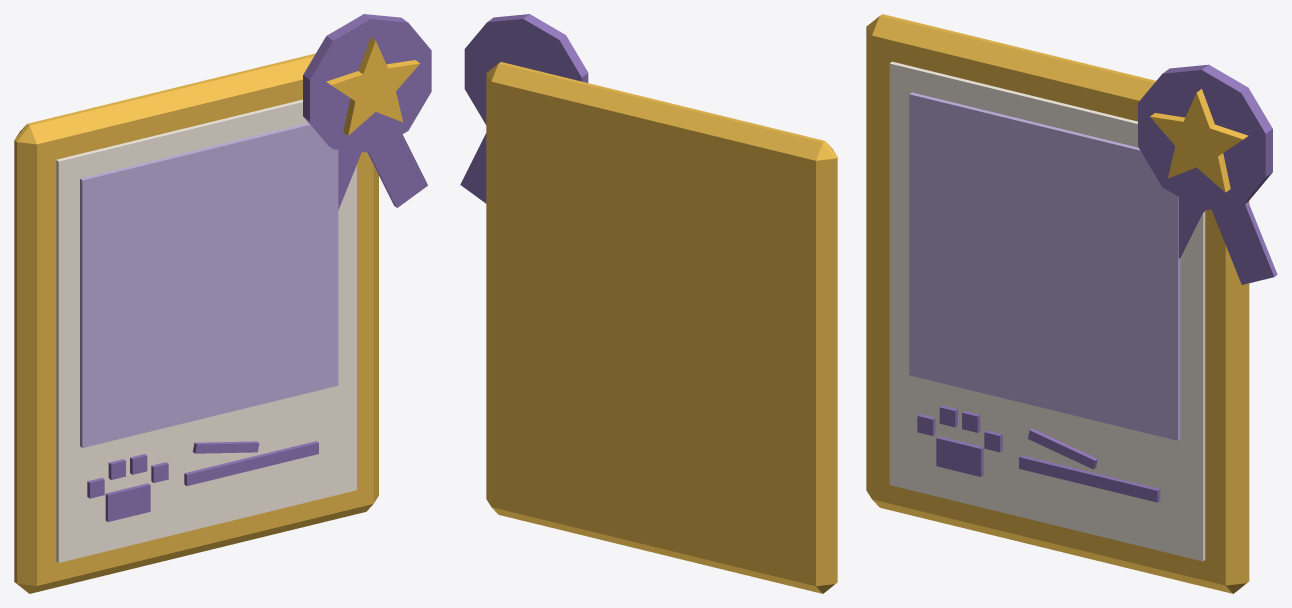
The model's file is CleanACat_Prop_StarPhoto.fbx.
3 renders of one model, left to right at view 1: azimuth 30°, elevation 25°; view 2: azimuth 150°, elevation 25°; view 3: azimuth 330°, elevation 25°, orthographic. The views are drawn at different scales.
Visible parts, largest first — view 1: CleanACat_Prop_StarPhoto, CleanACat_Prop_StarPhoto_Screen; view 2: CleanACat_Prop_StarPhoto; view 3: CleanACat_Prop_StarPhoto, CleanACat_Prop_StarPhoto_Screen.
Part boxes in pixels (<box>): CleanACat_Prop_StarPhoto: <box>14,14,431,593</box>; CleanACat_Prop_StarPhoto_Screen: <box>80,123,338,447</box>; CleanACat_Prop_StarPhoto: <box>460,14,837,593</box>; CleanACat_Prop_StarPhoto: <box>866,14,1277,593</box>; CleanACat_Prop_StarPhoto_Screen: <box>909,92,1180,440</box>.
Size of the model in its own units: 1.88 by 2.28 by 0.26.
Materials: 1 (1 with a texture image).
